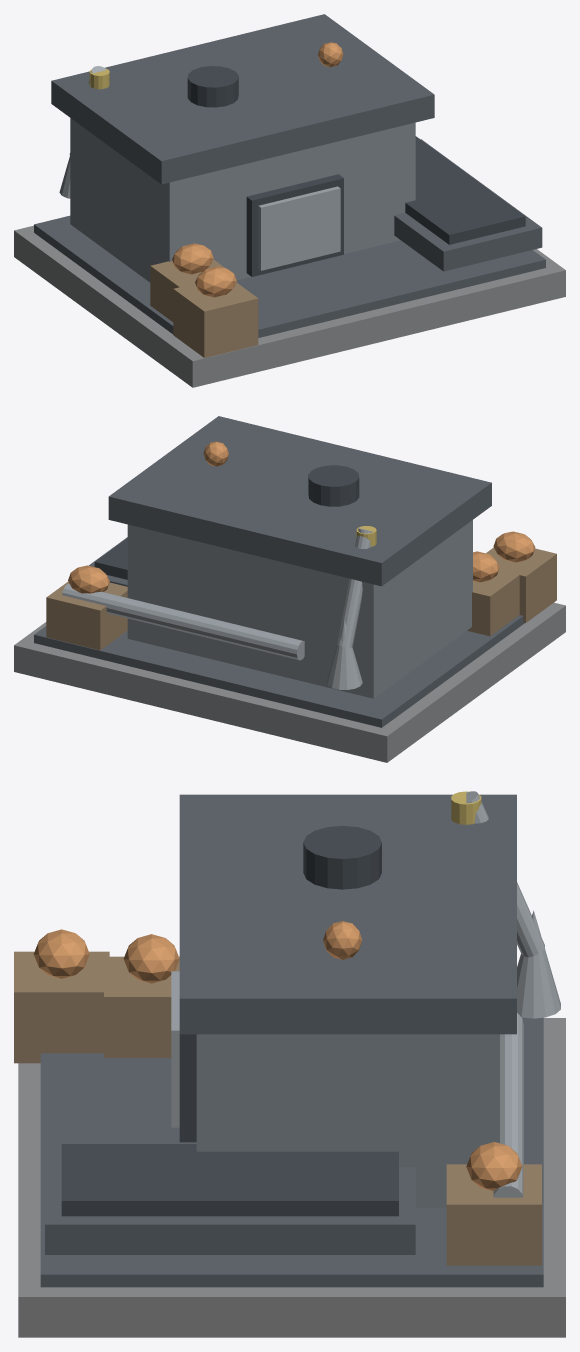
File: human_miners_hut.glb
3 views of the same model, one above another, from view 1: azimuth 30°, elevation 25°; view 2: azimuth 150°, elevation 25°; view 3: azimuth 270°, elevation 25° (orthographic). The views are drawn at different scales.
Visible parts, largest first — view 1: hut_roof, hut_shell, foundation, foundation_top, conveyor_belt, front_door_panel, ore_crate_1, conveyor_frame, front_door, roof_vent, ore_crate_0, ore_chunk_1 (+2 smaller); view 2: hut_roof, hut_shell, foundation, foundation_top, ore_crate_2, ore_crate_0, ore_crate_1, roof_vent, conveyor_roller_0, conveyor_roller_1, drill_arm, drill_head (+8 smaller); view 3: hut_roof, foundation, hut_shell, foundation_top, conveyor_belt, conveyor_frame, ore_crate_1, ore_crate_2, ore_crate_0, roof_vent, drill_head, ore_chunk_1 (+11 smaller).
Part boxes in pixels (x1=…): hut_roof: x1=51, y1=14, x2=434, y2=184; hut_shell: x1=70, y1=118, x2=415, y2=282; foundation: x1=14, y1=225, x2=565, y2=387; foundation_top: x1=34, y1=215, x2=545, y2=337; conveyor_belt: x1=405, y1=136, x2=525, y2=244; front_door_panel: x1=258, y1=186, x2=340, y2=270; ore_crate_1: x1=173, y1=282, x2=258, y2=357; conveyor_frame: x1=394, y1=139, x2=542, y2=271; front_door: x1=246, y1=174, x2=343, y2=276; roof_vent: x1=187, y1=66, x2=238, y2=107; ore_crate_0: x1=150, y1=259, x2=235, y2=321; ore_chunk_1: x1=195, y1=266, x2=236, y2=297; hut_roof: x1=108, y1=416, x2=491, y2=586; hut_shell: x1=127, y1=520, x2=472, y2=698; foundation: x1=14, y1=602, x2=565, y2=762; foundation_top: x1=34, y1=615, x2=524, y2=727; ore_crate_2: x1=46, y1=581, x2=127, y2=650; ore_crate_0: x1=467, y1=568, x2=520, y2=636; ore_crate_1: x1=486, y1=547, x2=556, y2=622; roof_vent: x1=308, y1=465, x2=359, y2=506; conveyor_roller_0: x1=220, y1=622, x2=304, y2=660; conveyor_roller_1: x1=181, y1=612, x2=261, y2=650; drill_arm: x1=336, y1=528, x2=373, y2=647; drill_head: x1=326, y1=619, x2=362, y2=689; hut_roof: x1=179, y1=794, x2=516, y2=1034; foundation: x1=18, y1=1018, x2=565, y2=1337; hut_shell: x1=196, y1=1034, x2=499, y2=1207; foundation_top: x1=40, y1=1017, x2=543, y2=1287; conveyor_belt: x1=61, y1=1144, x2=398, y2=1216; conveyor_frame: x1=45, y1=1151, x2=415, y2=1254; ore_crate_1: x1=14, y1=951, x2=109, y2=1063; ore_crate_2: x1=446, y1=1164, x2=541, y2=1265; ore_crate_0: x1=104, y1=956, x2=179, y2=1057; roof_vent: x1=303, y1=825, x2=381, y2=889; drill_head: x1=517, y1=910, x2=560, y2=1018; ore_chunk_1: x1=33, y1=929, x2=89, y2=978.
Size of the model in its own units: 2.35 by 1.25 by 1.97.
